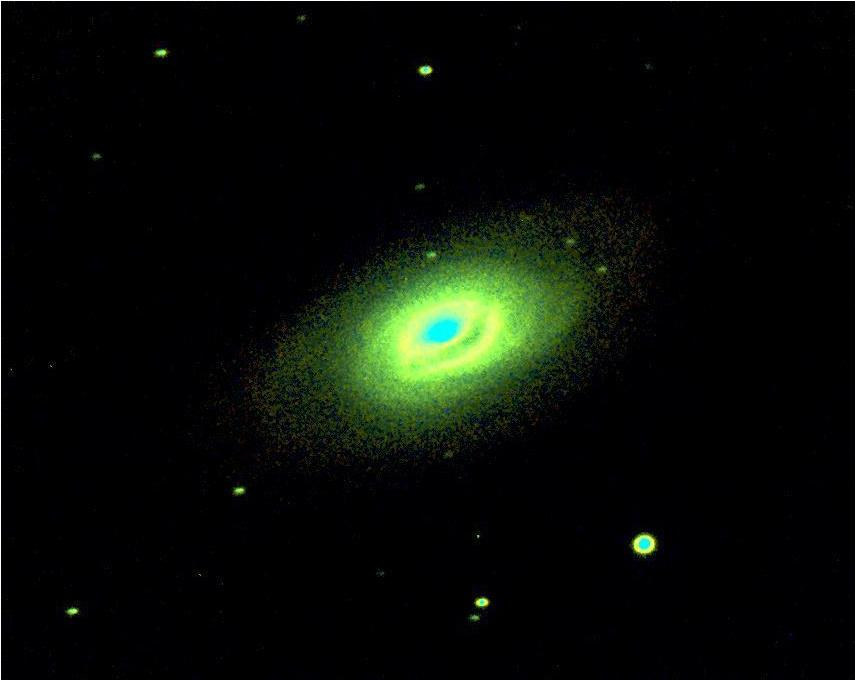star: (287, 2, 317, 32)
